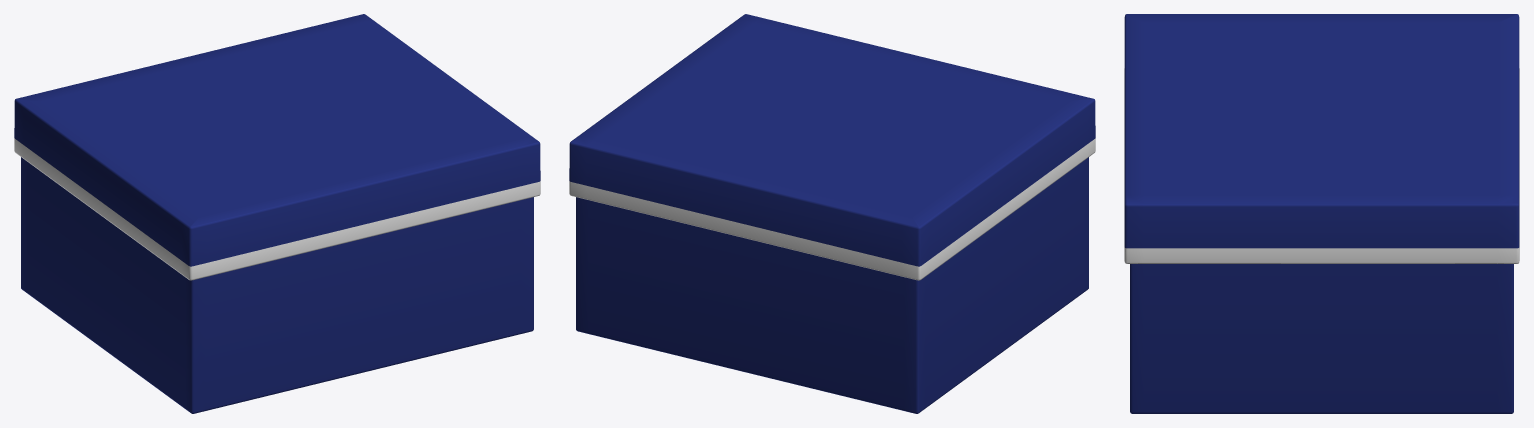
3 renders of one model, left to right at view 1: azimuth 30°, elevation 25°; view 2: azimuth 150°, elevation 25°; view 3: azimuth 270°, elevation 25°, orthographic. The views are drawn at different scales.
Parts seen in each view (by area): view 1: Box002; view 2: Box002; view 3: Box002.
Boxes of the visible parts, x1,y1,x2,y2 form: Box002: (14,14,540,413); Box002: (569,14,1095,413); Box002: (1124,14,1519,413).
Bounding box in the file's own units: 245 × 127 × 214.
